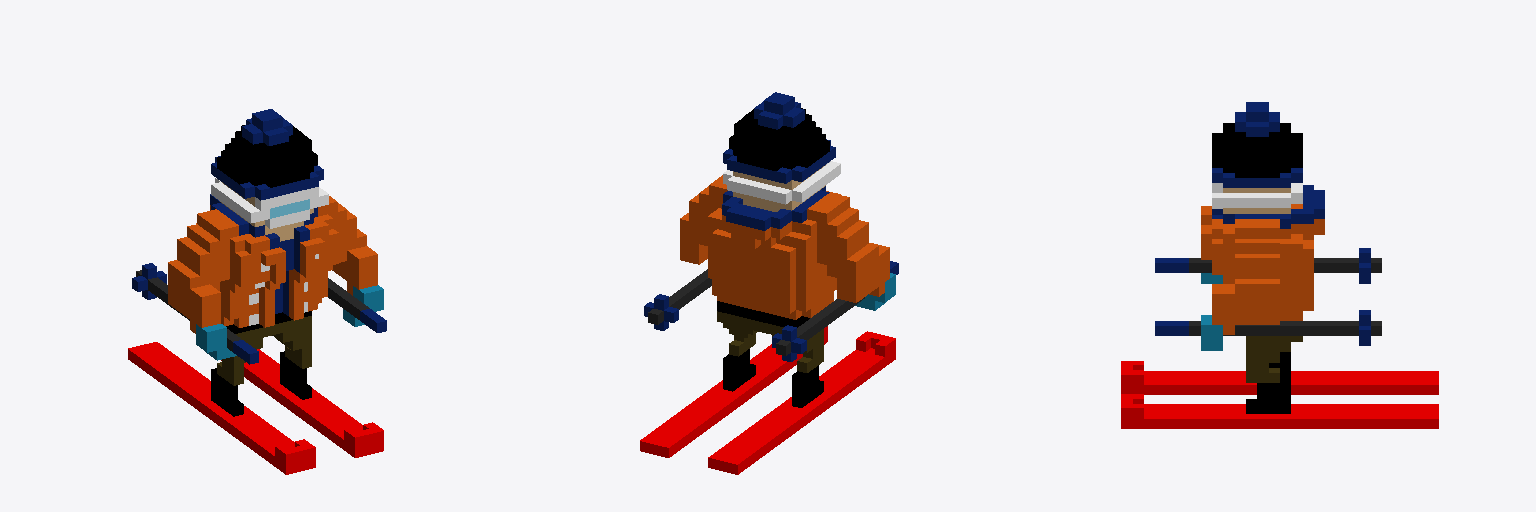
The picture shows the model from 3 angles: view 1: azimuth 30°, elevation 25°; view 2: azimuth 150°, elevation 25°; view 3: azimuth 270°, elevation 25°; orthographic projection.
Size of the model in its own units: 18 by 29 by 28.
1 materials, 1 textured.